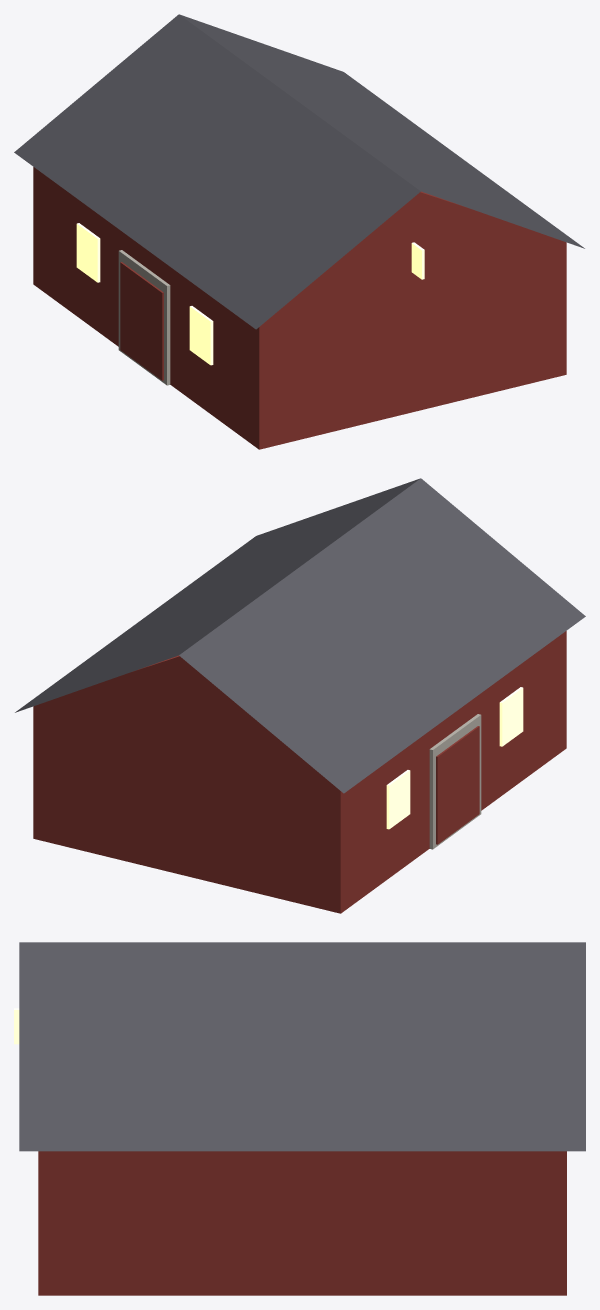
File: barn.glb
3 views of the same model, one above another, from view 1: azimuth 30°, elevation 25°; view 2: azimuth 150°, elevation 25°; view 3: azimuth 270°, elevation 25° (orthographic). The views are drawn at different scales.
Visible parts, largest first — view 1: barn; view 2: barn; view 3: barn.
Boxes of the visible parts, x1,y1,x2,y2 form: barn: [14, 14, 584, 449]; barn: [15, 478, 585, 913]; barn: [14, 942, 585, 1295].
Bounding box in the file's own units: 11.8 × 7.75 × 15.14.
